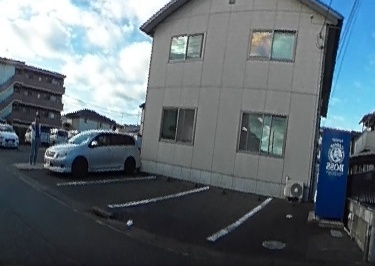person: (26, 115, 40, 163)
